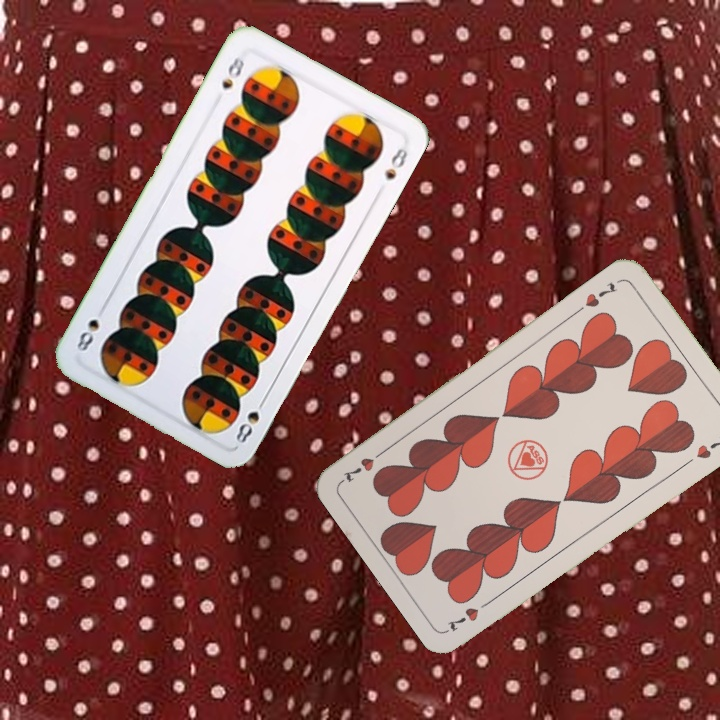H7: (443, 595, 495, 634), (581, 278, 619, 310)
S8: (231, 392, 269, 446), (217, 52, 247, 92)
